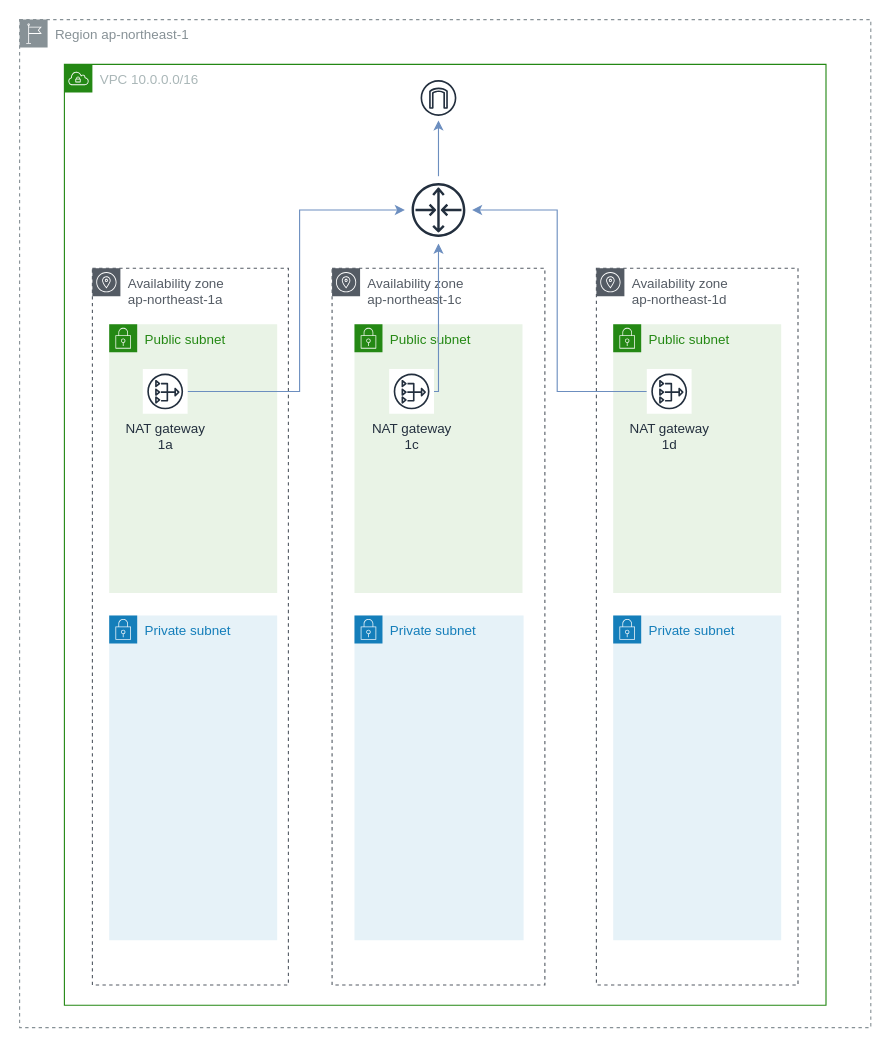
Some shapes in this 890 by 1047 pixel diagram are drawn without their labels. Each missing label, with the box of its shape:
Internet gateway: (415, 74, 461, 120)
Router: (404, 175, 472, 244)
